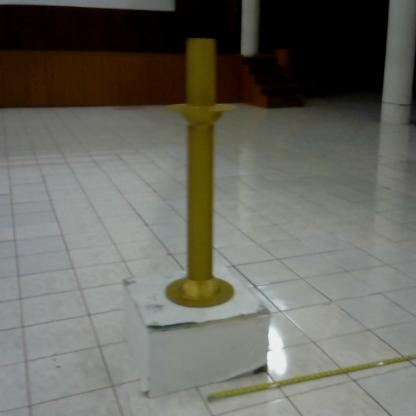pole: (159, 31, 241, 316)
